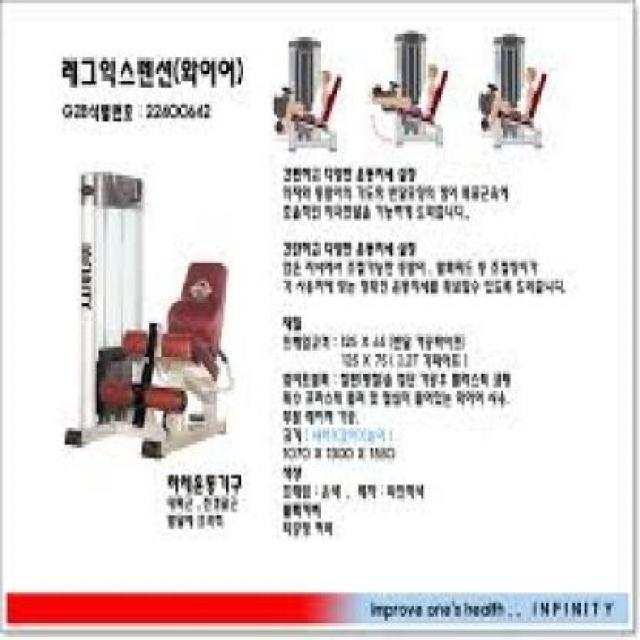leg extension: (48, 148, 266, 474)
